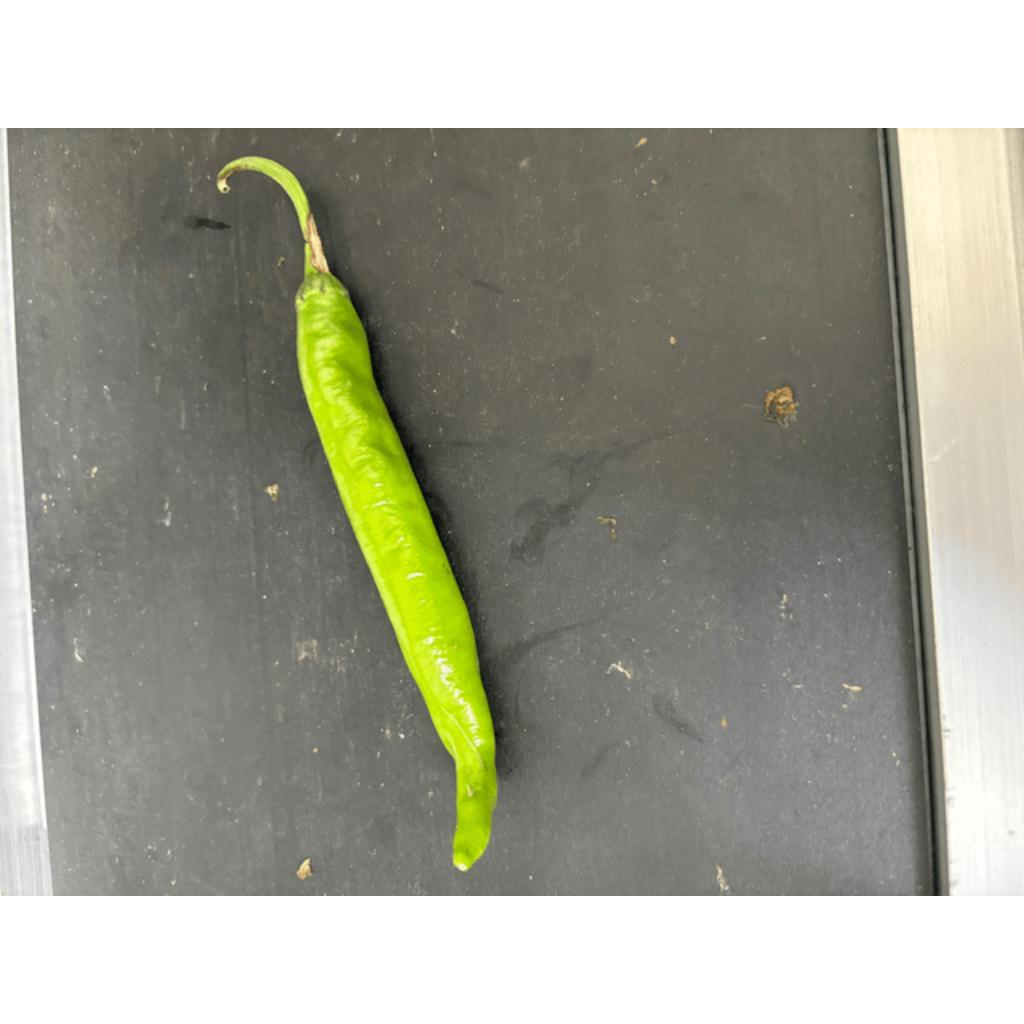chili: (289, 272, 500, 875)
